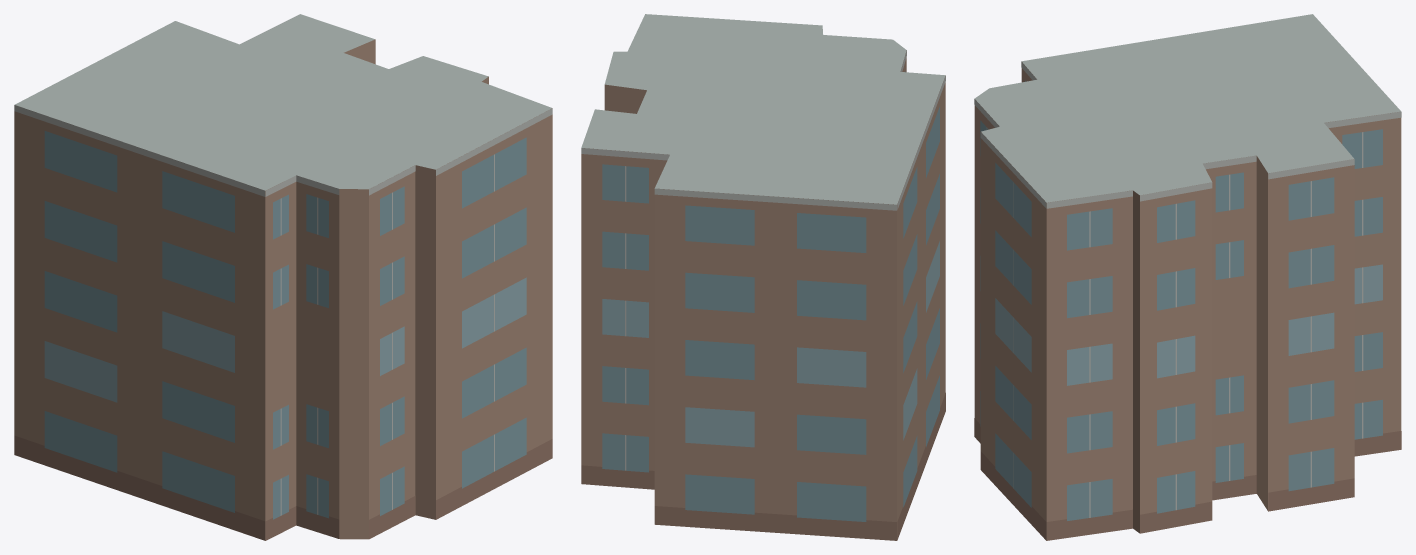
Rendered from survey-upis-32912443.glb.
3 renders of one model, left to right at view 1: azimuth 30°, elevation 25°; view 2: azimuth 150°, elevation 25°; view 3: azimuth 270°, elevation 25°, orthographic. The views are drawn at different scales.
Parts seen in each view (by area): view 1: survey-upis-32912443.tmp; view 2: survey-upis-32912443.tmp; view 3: survey-upis-32912443.tmp.
Part boxes in pixels (x1=…): survey-upis-32912443.tmp: x1=14, y1=14, x2=552, y2=540; survey-upis-32912443.tmp: x1=581, y1=14, x2=945, y2=540; survey-upis-32912443.tmp: x1=974, y1=14, x2=1401, y2=540.
Bounding box in the file's own units: 16.04 × 13.4 × 15.34.
